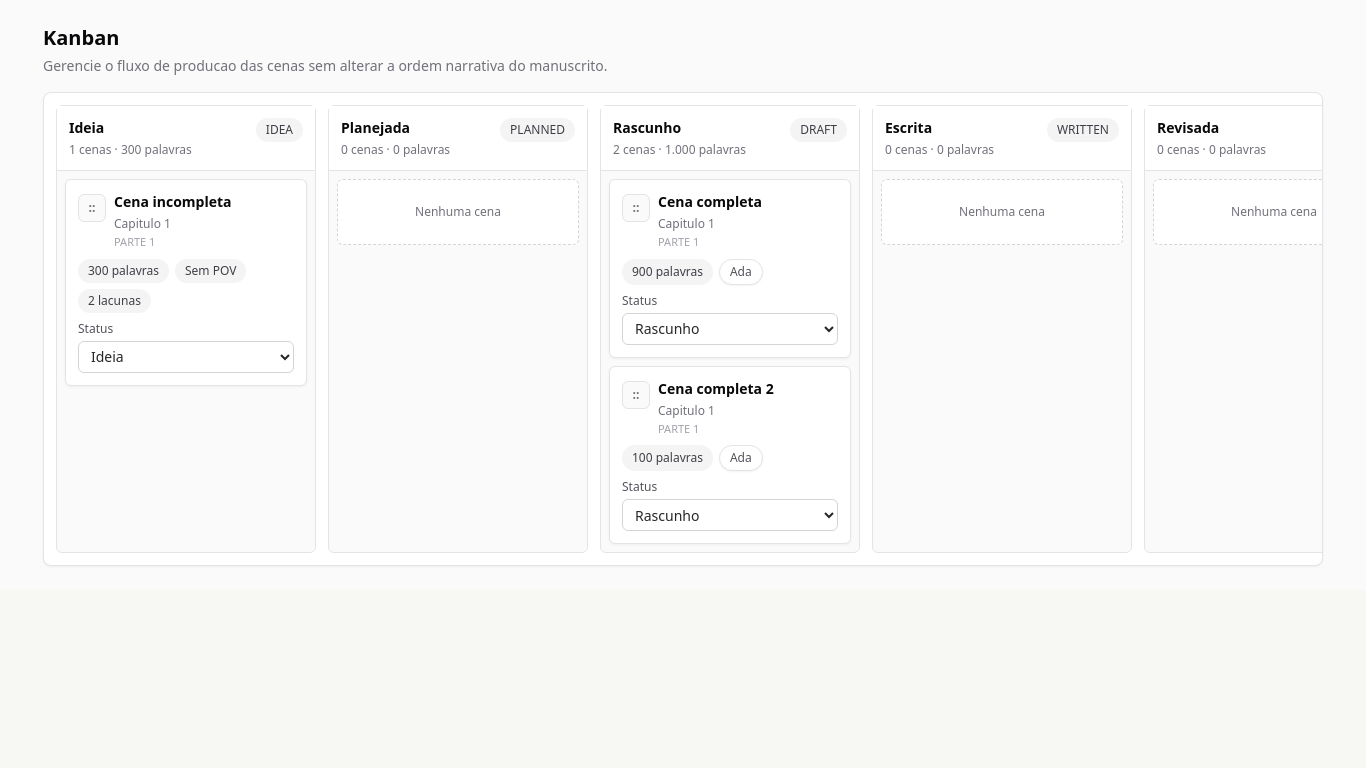
it: SceneKanbanPanel › ignores a second move for the same scene while allowing a different scene move
Select "Planejada" in the dropdown named "Status de Cena completa": point(730, 328) x1=622 y1=312 x2=838 y2=344
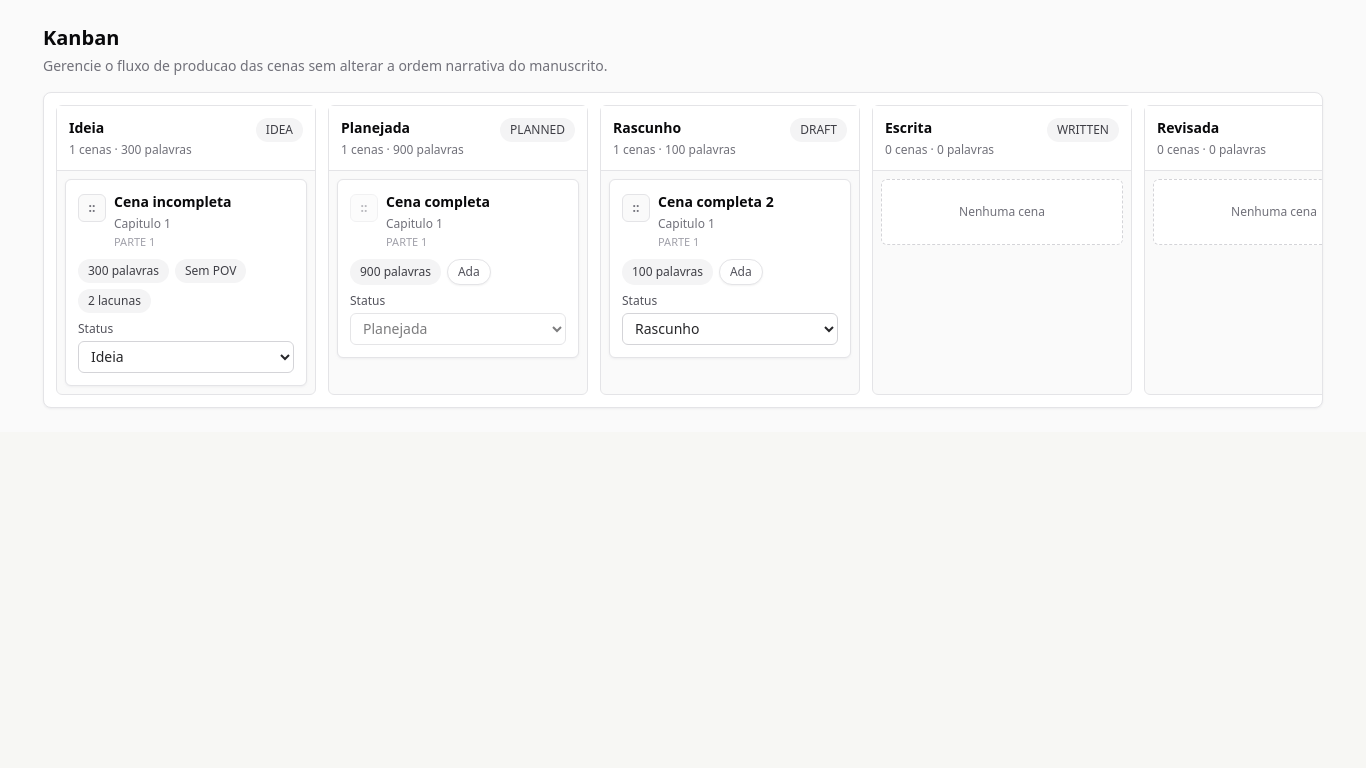
Select "Escrita" in the dropdown named "Status de Cena completa": point(458, 328) x1=350 y1=312 x2=566 y2=344
Select "Planejada" in the dropdown named "Status de Cena completa 2": point(730, 328) x1=622 y1=312 x2=838 y2=344
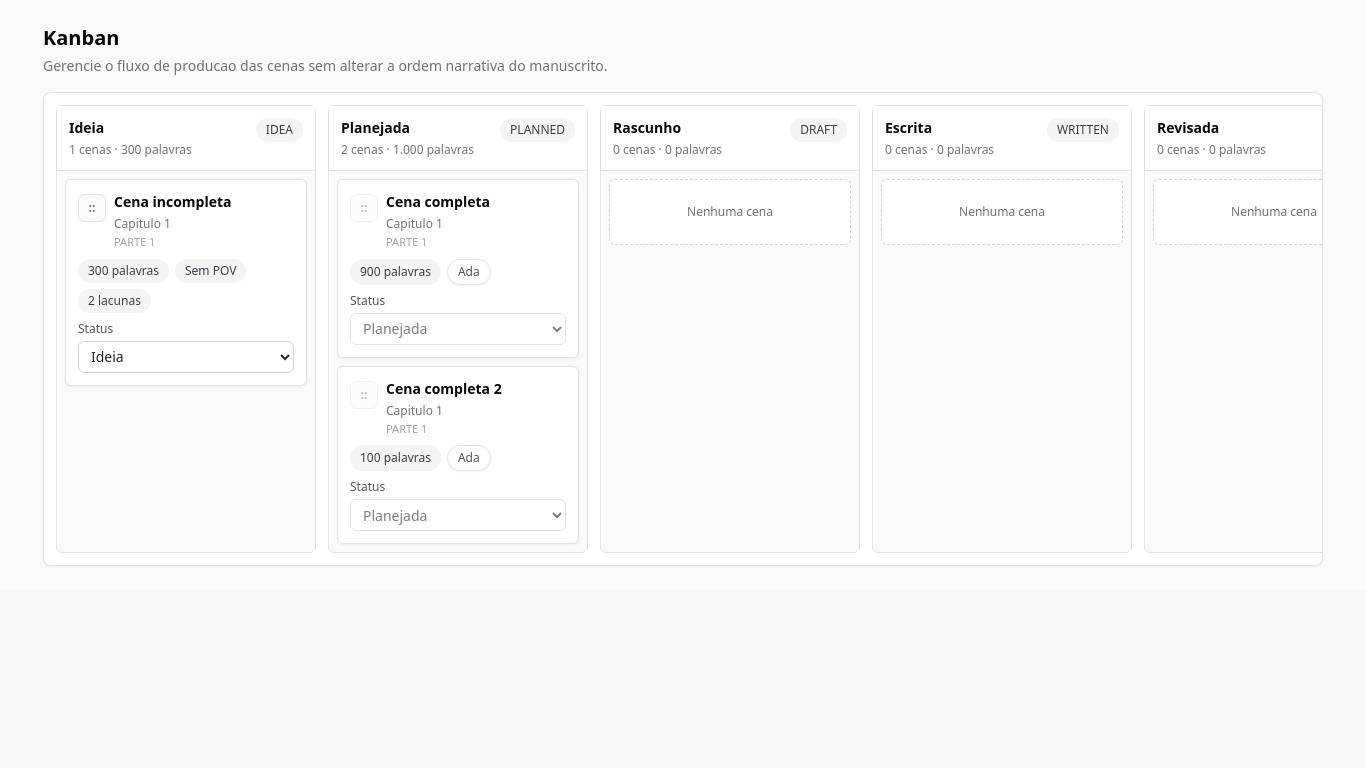
Check: the dropdown named "Status de Cena completa" is disabled, box x1=350 y1=312 x2=566 y2=344
Check: the dropdown named "Status de Cena completa 2" is disabled, box x1=350 y1=499 x2=566 y2=531
